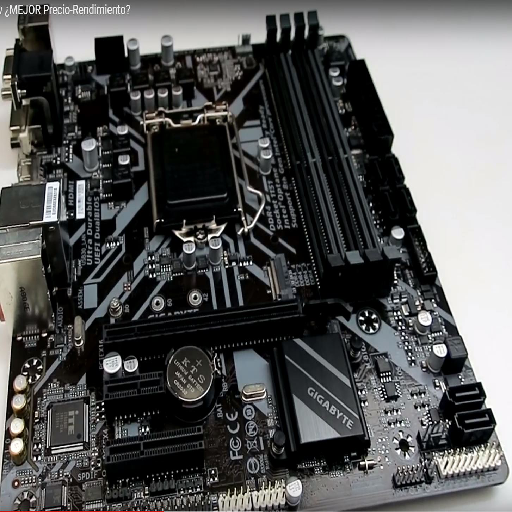CPU: (143, 121, 244, 245)
GPU: (103, 298, 328, 347)
MOTHERBOARD: (3, 26, 511, 511)
RAM: (261, 8, 400, 294)
SSD: (262, 252, 302, 300)
